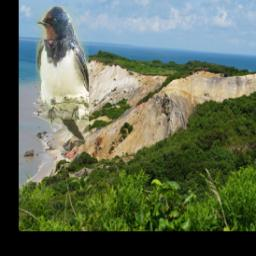Swallow: (36, 6, 90, 140)
